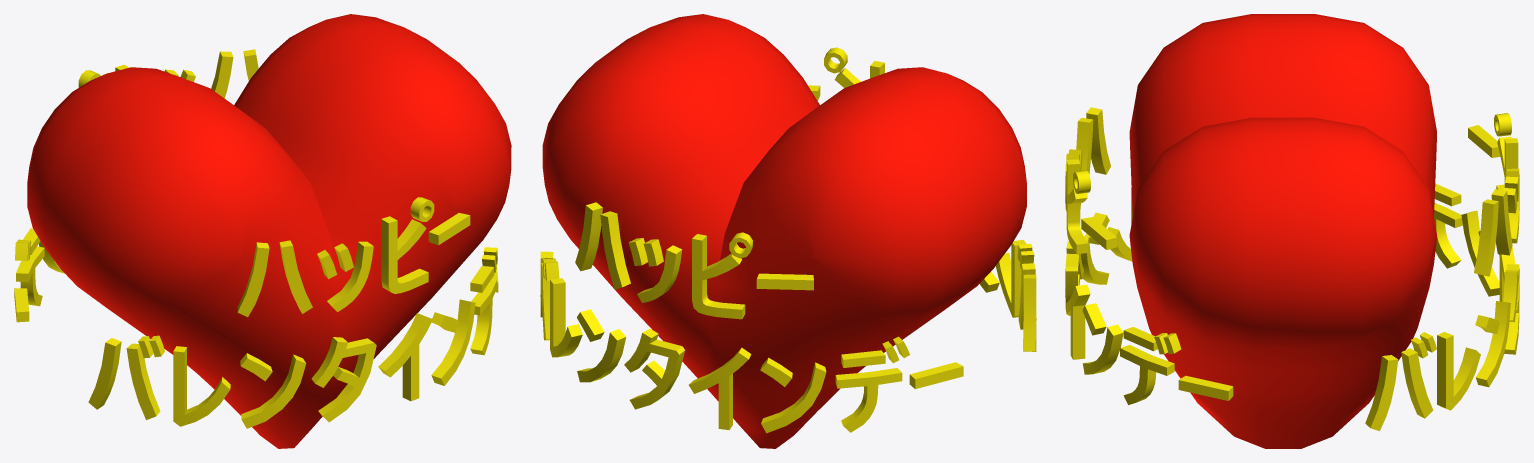
The model's file is Cake_ThemeValentine_F.FBX.
3 renders of one model, left to right at view 1: azimuth 30°, elevation 25°; view 2: azimuth 150°, elevation 25°; view 3: azimuth 270°, elevation 25°, orthographic.
Visible parts, largest first — view 1: Cake_ThemeValentine_F; view 2: Cake_ThemeValentine_F; view 3: Cake_ThemeValentine_F.
Boxes of the visible parts, bbox=[...] form: Cake_ThemeValentine_F: bbox=[14, 14, 511, 448]; Cake_ThemeValentine_F: bbox=[540, 14, 1036, 448]; Cake_ThemeValentine_F: bbox=[1065, 14, 1519, 448].
Size of the model in its own units: 88293 by 74875 by 82663.
